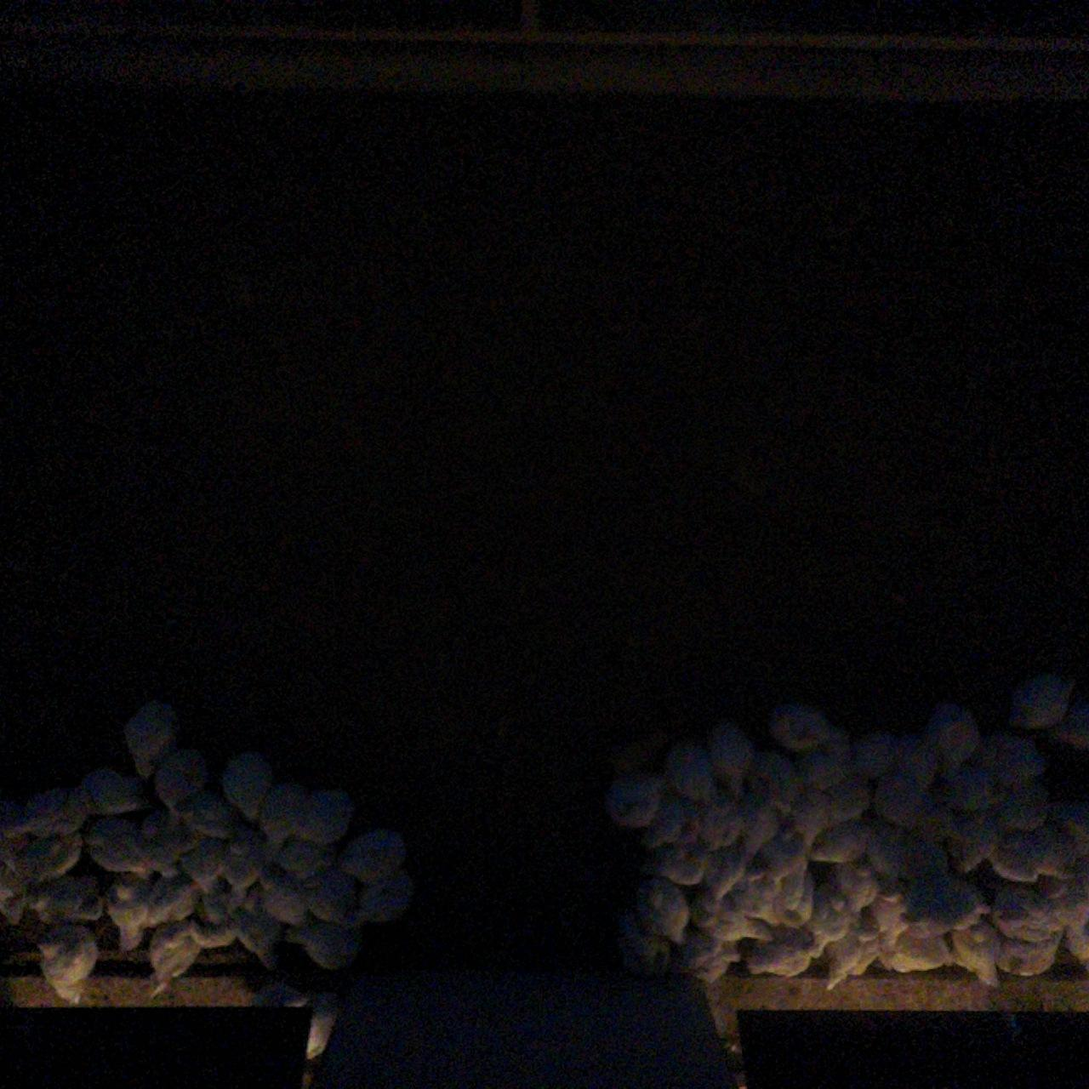chicken: (33, 921, 96, 1006), (975, 879, 1061, 939), (1005, 668, 1076, 737), (908, 873, 985, 933), (125, 698, 179, 782), (277, 915, 361, 968), (77, 817, 152, 875), (214, 824, 262, 914), (336, 820, 407, 880), (254, 777, 304, 862), (736, 925, 810, 982), (686, 895, 770, 945), (745, 747, 804, 818), (226, 904, 284, 972), (703, 721, 755, 795), (351, 869, 416, 926), (666, 733, 718, 804), (22, 878, 102, 924), (966, 731, 1046, 777), (19, 822, 78, 884), (981, 773, 1045, 830), (825, 924, 880, 990), (948, 922, 1001, 990), (148, 926, 198, 996), (78, 765, 146, 816), (248, 870, 305, 930), (669, 917, 725, 978), (931, 703, 976, 778), (222, 749, 269, 820), (104, 875, 150, 947), (800, 887, 848, 956), (144, 869, 201, 927), (618, 917, 670, 980), (295, 787, 351, 845), (141, 809, 195, 869), (731, 789, 780, 855), (1020, 817, 1069, 882), (636, 879, 686, 942), (764, 866, 814, 929), (306, 865, 359, 924), (798, 722, 849, 783), (895, 822, 952, 876), (603, 770, 662, 822), (156, 746, 206, 806), (774, 699, 829, 753), (951, 819, 1004, 875), (722, 871, 779, 923), (682, 797, 737, 849), (989, 933, 1054, 977), (826, 862, 875, 920), (744, 829, 805, 875), (25, 787, 87, 832), (863, 878, 910, 937), (646, 840, 706, 886), (984, 829, 1034, 882), (935, 767, 993, 812), (693, 843, 744, 894), (790, 786, 830, 851), (868, 779, 923, 826), (880, 926, 940, 969), (183, 790, 234, 837), (630, 798, 682, 843), (893, 732, 934, 787), (1051, 795, 1089, 854), (852, 734, 897, 783), (856, 823, 899, 874), (1039, 883, 1089, 926), (815, 823, 867, 864), (282, 836, 333, 876), (821, 777, 867, 821), (181, 844, 226, 887), (0, 859, 26, 931), (1052, 698, 1089, 747), (1055, 925, 1089, 976), (191, 887, 227, 930), (186, 923, 238, 952), (0, 799, 25, 857)
